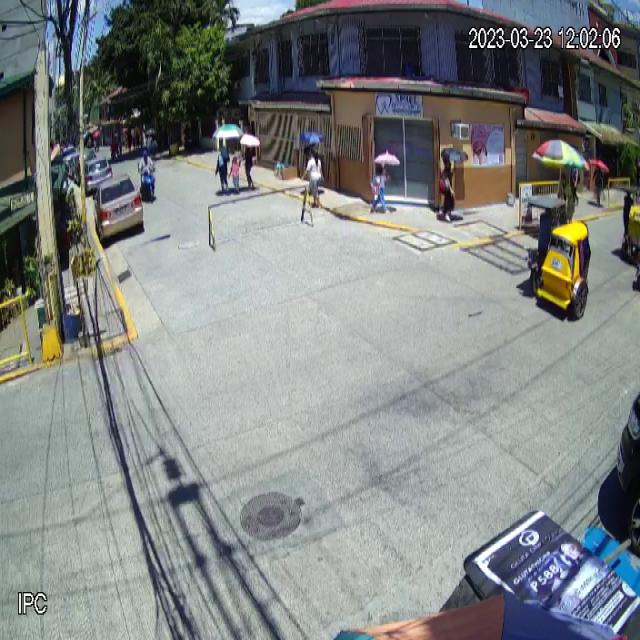Car: (92, 174, 144, 242)
Tricycle: (524, 196, 592, 317)
